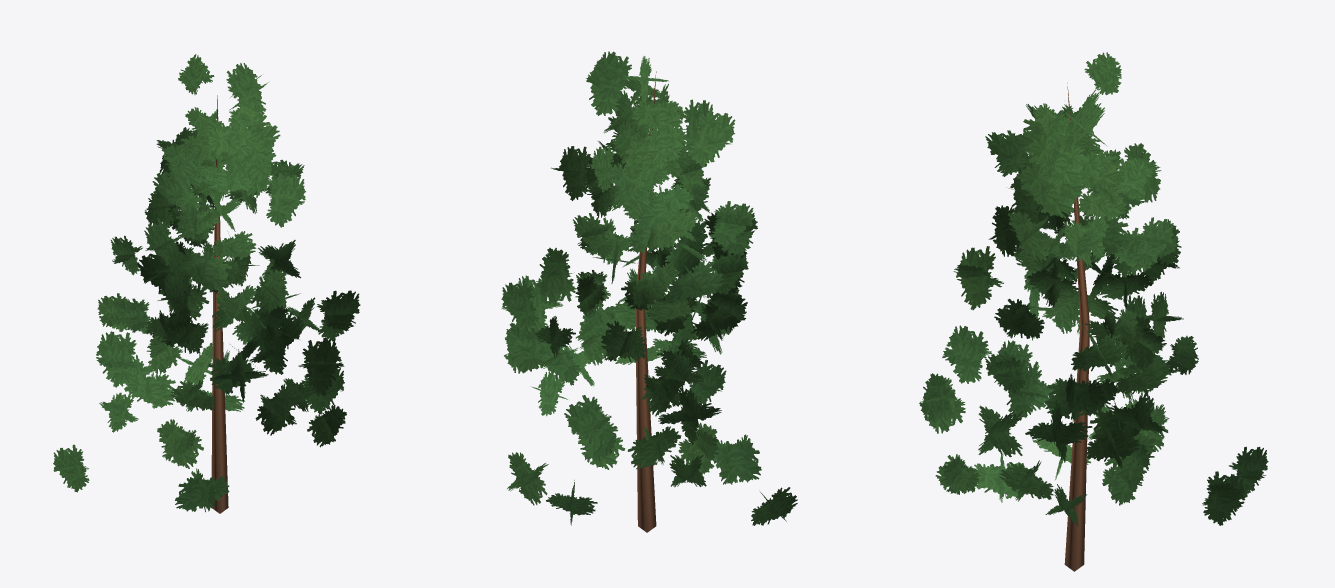
File: pino-muybajo.glb
3 renders of one model, left to right at view 1: azimuth 30°, elevation 25°; view 2: azimuth 150°, elevation 25°; view 3: azimuth 270°, elevation 25°, orthographic. The views are drawn at different scales.
Visible parts, largest first — view 1: pino; view 2: pino; view 3: pino.
Part boxes in pixels (box(x1,y1,x2,y2)): pino: box(53, 54, 360, 513); pino: box(501, 51, 797, 532); pino: box(919, 52, 1268, 571).
Size of the model in its own units: 13.61 by 17.59 by 12.88.
Materials: 2 (1 with a texture image).
